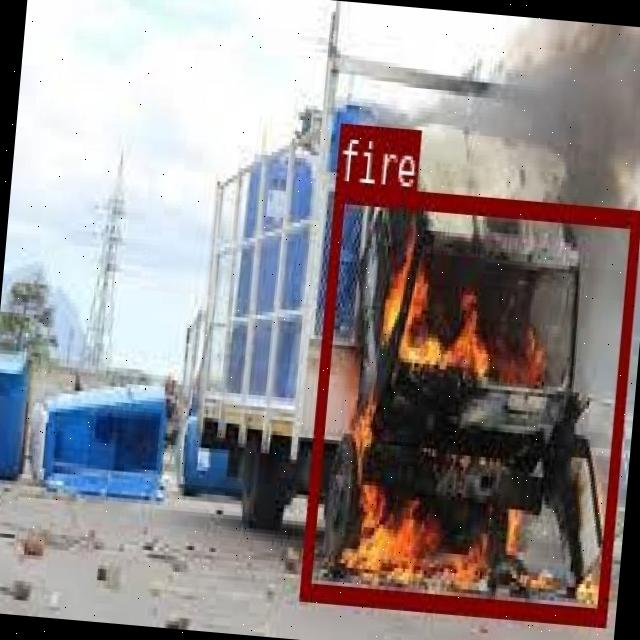fire: (298, 180, 639, 622)
